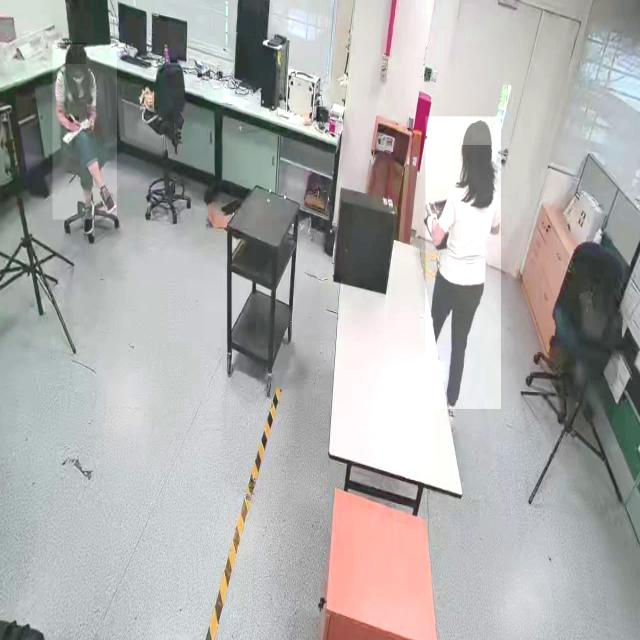hand_glove: (423, 200, 442, 239)
hand_noglove: (68, 116, 80, 134), (87, 113, 95, 131)
head_nohelmet: (461, 119, 492, 146), (65, 43, 87, 65)
person: (426, 116, 502, 410), (52, 44, 118, 220)
shoes: (98, 182, 120, 214), (81, 196, 96, 240)
